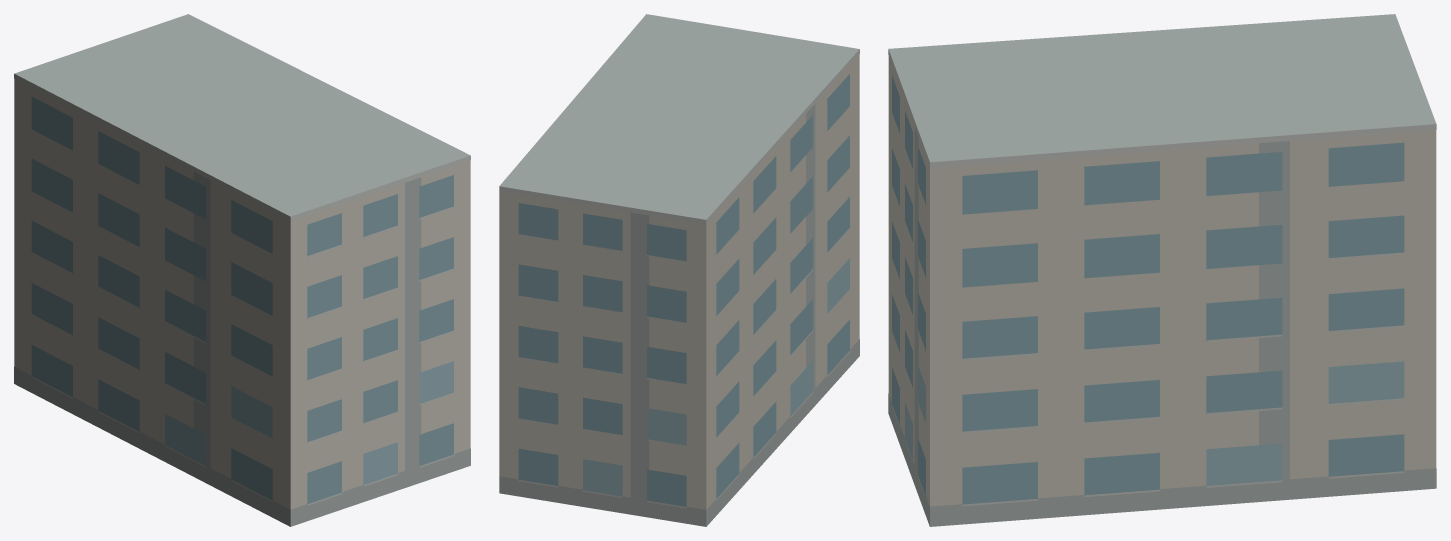
Rendered from survey-upis-32567655.glb.
3 views of the same model, side by side, from view 1: azimuth 30°, elevation 25°; view 2: azimuth 150°, elevation 25°; view 3: azimuth 270°, elevation 25° (orthographic). The views are drawn at different scales.
Parts seen in each view (by area): view 1: survey-upis-32567655.tmp; view 2: survey-upis-32567655.tmp; view 3: survey-upis-32567655.tmp.
Part boxes in pixels (x1,y1,x2,y2): survey-upis-32567655.tmp: (14, 14, 470, 526); survey-upis-32567655.tmp: (499, 14, 859, 526); survey-upis-32567655.tmp: (888, 14, 1436, 526).
Size of the model in its own units: 13.31 by 15.25 by 20.79.
